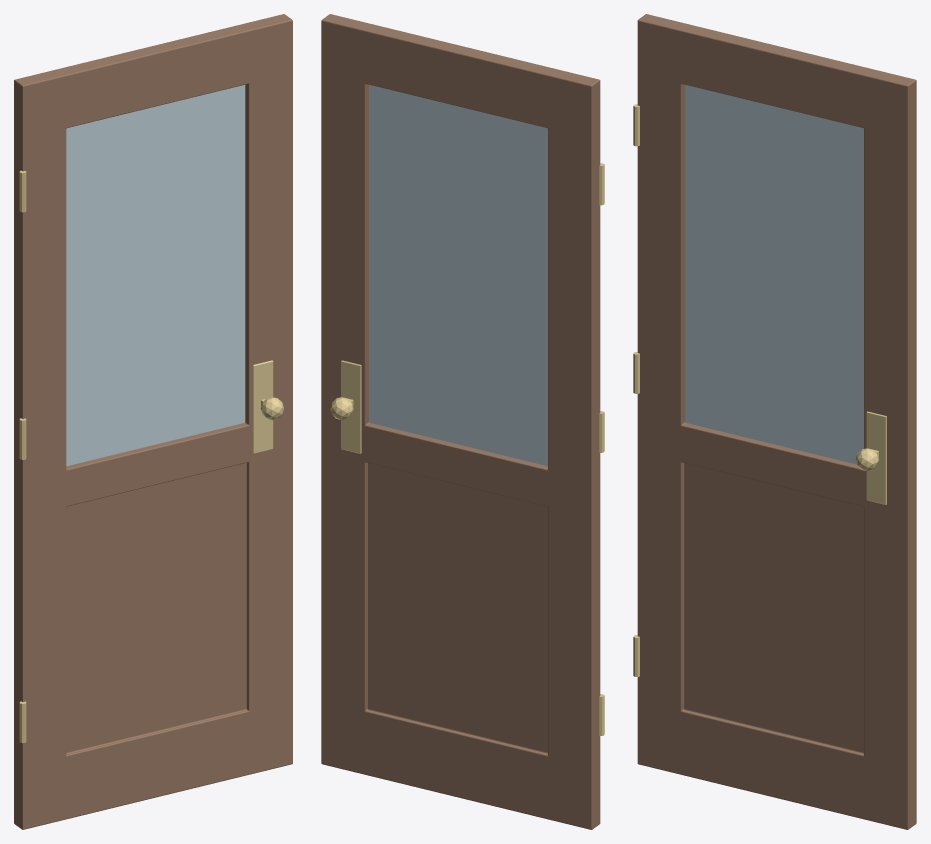
The model's file is door_leaf_drum.glb.
The picture shows the model from 3 angles, left to right: view 1: azimuth 30°, elevation 25°; view 2: azimuth 150°, elevation 25°; view 3: azimuth 330°, elevation 25°; orthographic projection.
Parts seen in each view (by area): view 1: door_leaf_drum_door, door_leaf_drum_glass, door_leaf_drum_brass; view 2: door_leaf_drum_door, door_leaf_drum_glass, door_leaf_drum_brass; view 3: door_leaf_drum_door, door_leaf_drum_glass, door_leaf_drum_brass.
Boxes of the visible parts, left/top/right/bottom form: door_leaf_drum_door: left=14, top=14, right=292, bottom=829; door_leaf_drum_glass: left=66, top=85, right=245, bottom=466; door_leaf_drum_brass: left=19, top=170, right=283, bottom=743; door_leaf_drum_door: left=321, top=14, right=600, bottom=829; door_leaf_drum_glass: left=369, top=84, right=547, bottom=466; door_leaf_drum_brass: left=330, top=163, right=604, bottom=735; door_leaf_drum_door: left=637, top=14, right=916, bottom=829; door_leaf_drum_glass: left=685, top=85, right=863, bottom=464; door_leaf_drum_brass: left=633, top=104, right=886, bottom=676.
Size of the model in its own units: 0.804 by 2.09 by 0.205.
